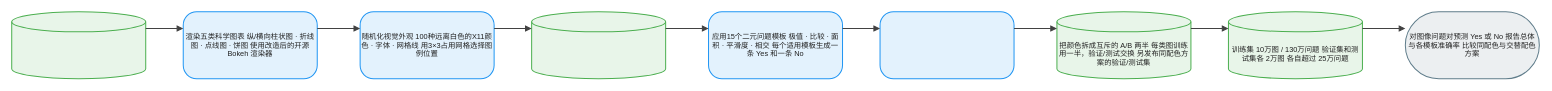
Image size: 1552x91. Some labels were removed from this diagram. Here are the shapes that lost their labels. From the top down, the centre of each, then its label:
pixel 78 45: 采样数值源数据 统一参数范围与图表约束 线性 · 二次 · 钟形曲线并加入扰动
pixel 598 45: 导出辅助监督信息 数值数据与全部图表元素边界框 颜色名称、RGB值和唯一ID
pixel 946 45: 在每类问题内平衡 Yes / No 丢弃多余问答对以消除答案偏置 从数值源数据推导精确答案
